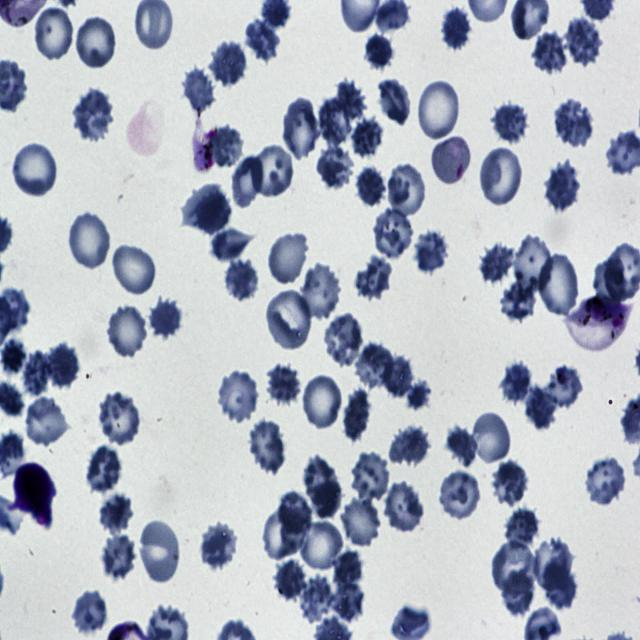leukocyte: (12, 461, 58, 528)
red blood cell: (536, 251, 582, 318), (266, 289, 314, 352), (478, 144, 524, 209), (416, 77, 462, 142), (138, 518, 182, 584), (67, 208, 113, 271), (297, 260, 343, 323), (11, 141, 59, 200), (110, 240, 158, 297), (30, 5, 75, 64), (266, 229, 310, 288), (298, 518, 346, 572), (492, 539, 538, 595), (282, 97, 321, 162), (106, 302, 150, 359), (24, 395, 70, 449), (250, 144, 296, 198), (322, 312, 366, 368), (380, 480, 426, 533), (71, 88, 116, 142), (303, 456, 342, 518), (75, 15, 118, 71), (186, 182, 232, 234), (371, 207, 416, 260), (300, 375, 343, 430), (98, 392, 141, 447), (470, 409, 512, 465), (218, 369, 260, 425), (514, 235, 553, 295), (438, 471, 483, 522), (583, 455, 628, 506), (384, 163, 424, 220), (554, 96, 596, 150), (198, 517, 240, 571), (262, 506, 304, 560), (343, 496, 383, 550), (351, 451, 392, 503), (248, 418, 286, 474), (534, 536, 572, 590), (354, 341, 394, 392), (545, 161, 583, 213), (564, 18, 604, 67), (208, 39, 248, 88), (488, 99, 530, 145), (71, 588, 111, 635), (242, 16, 282, 63), (85, 446, 124, 494), (317, 95, 352, 148), (387, 424, 430, 466), (490, 462, 533, 504), (356, 255, 393, 303), (375, 78, 412, 125), (414, 230, 451, 276), (230, 157, 264, 207), (102, 533, 138, 580), (501, 569, 534, 620), (542, 562, 576, 611), (531, 31, 568, 76), (278, 490, 313, 537), (210, 228, 258, 262), (300, 576, 334, 624), (316, 144, 352, 189), (522, 384, 558, 429), (504, 507, 540, 552), (594, 256, 628, 303), (223, 257, 260, 300), (342, 387, 370, 442), (22, 350, 54, 398), (46, 343, 80, 388), (381, 354, 415, 399), (445, 424, 478, 470), (546, 367, 583, 407), (441, 6, 472, 53), (180, 66, 213, 110), (336, 80, 368, 125), (480, 243, 515, 284), (354, 166, 386, 210), (99, 494, 134, 534), (209, 126, 243, 167), (332, 580, 366, 621), (500, 361, 532, 404), (274, 561, 308, 601), (148, 299, 182, 339), (267, 362, 300, 403), (501, 284, 536, 322), (351, 119, 384, 158), (333, 550, 363, 588), (364, 32, 393, 69), (0, 337, 28, 374)
ring: (430, 134, 472, 186)
trophozoite: (564, 294, 634, 353), (192, 112, 218, 174)
